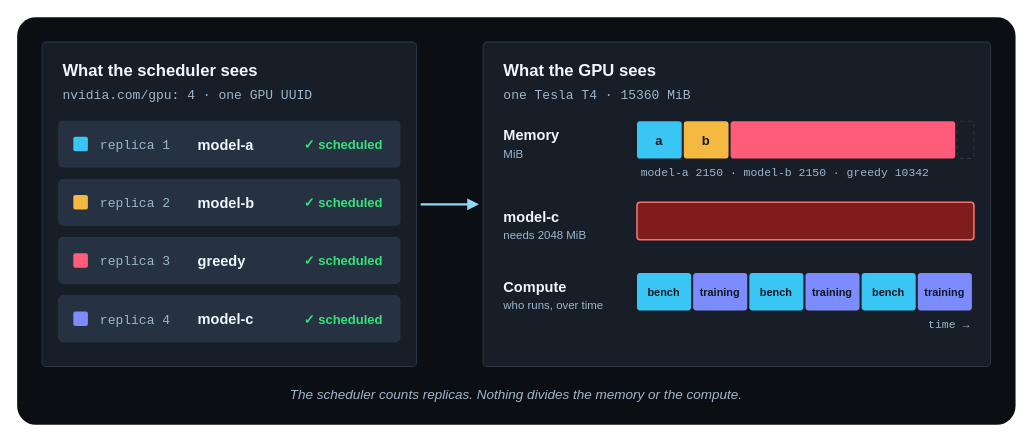
Some shapes in this 1033 by 442 pixel diagram are drawn without their labels. Here are the shapes that lost their labels. From the top down, the box of each, then its label:
(730, 121, 955, 158): greedy · 10.1 GiB
(636, 201, 974, 240): ✕ CUDA out of memory
